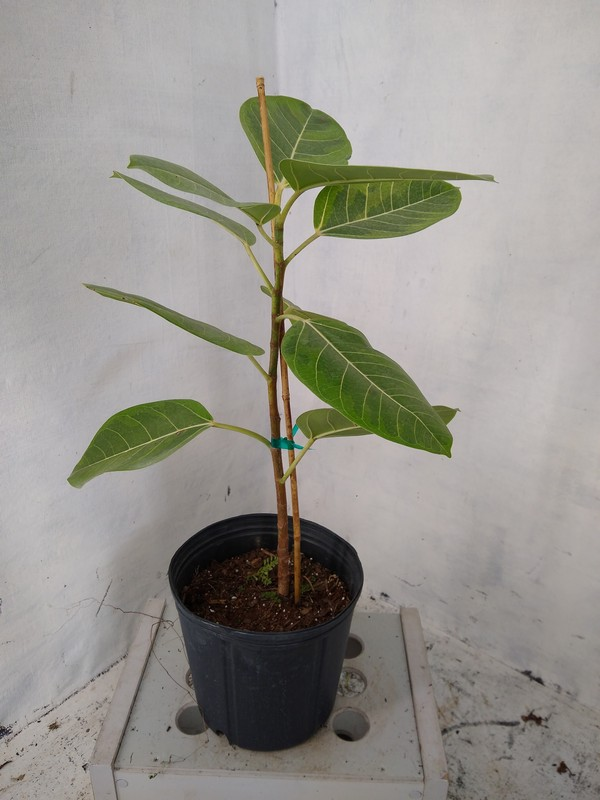plant: (65, 90, 503, 609)
pot: (166, 512, 368, 755)
